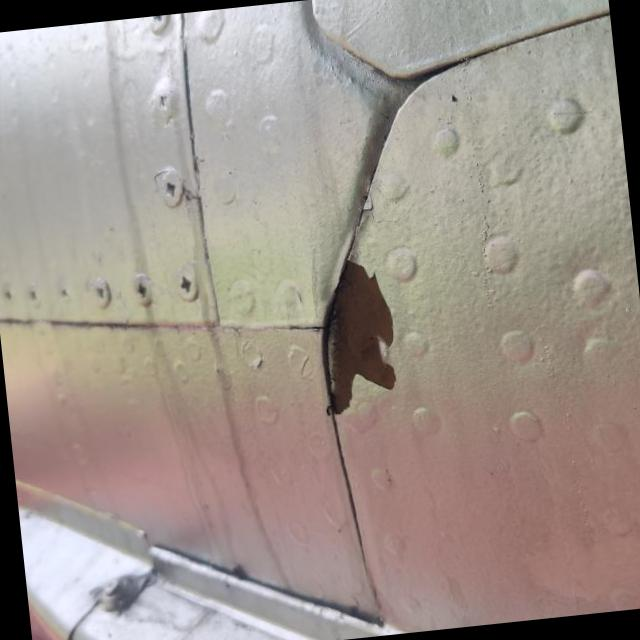Paint-off: (326, 260, 397, 414)
